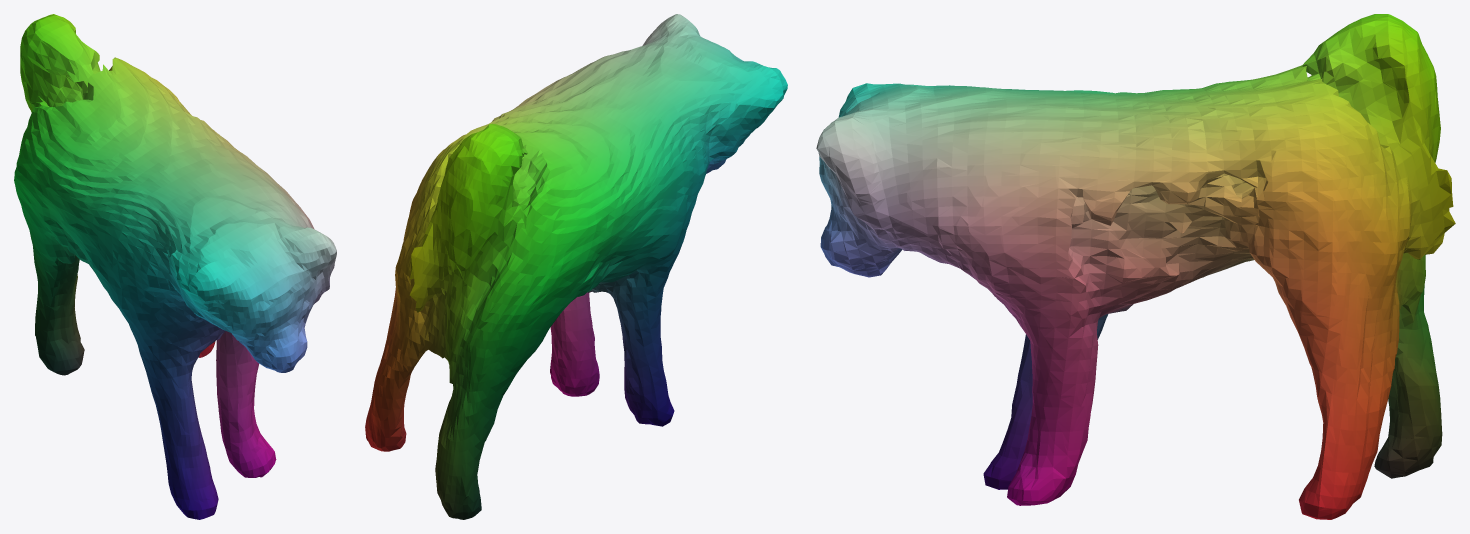
The model's file is shiba-haru-1001-mesh-00009.obj.
3 renders of one model, left to right at view 1: azimuth 30°, elevation 25°; view 2: azimuth 150°, elevation 25°; view 3: azimuth 270°, elevation 25°, orthographic. The views are drawn at different scales.
Bounding box in the file's own units: 0.0539 × 0.0937 × 0.1148.
